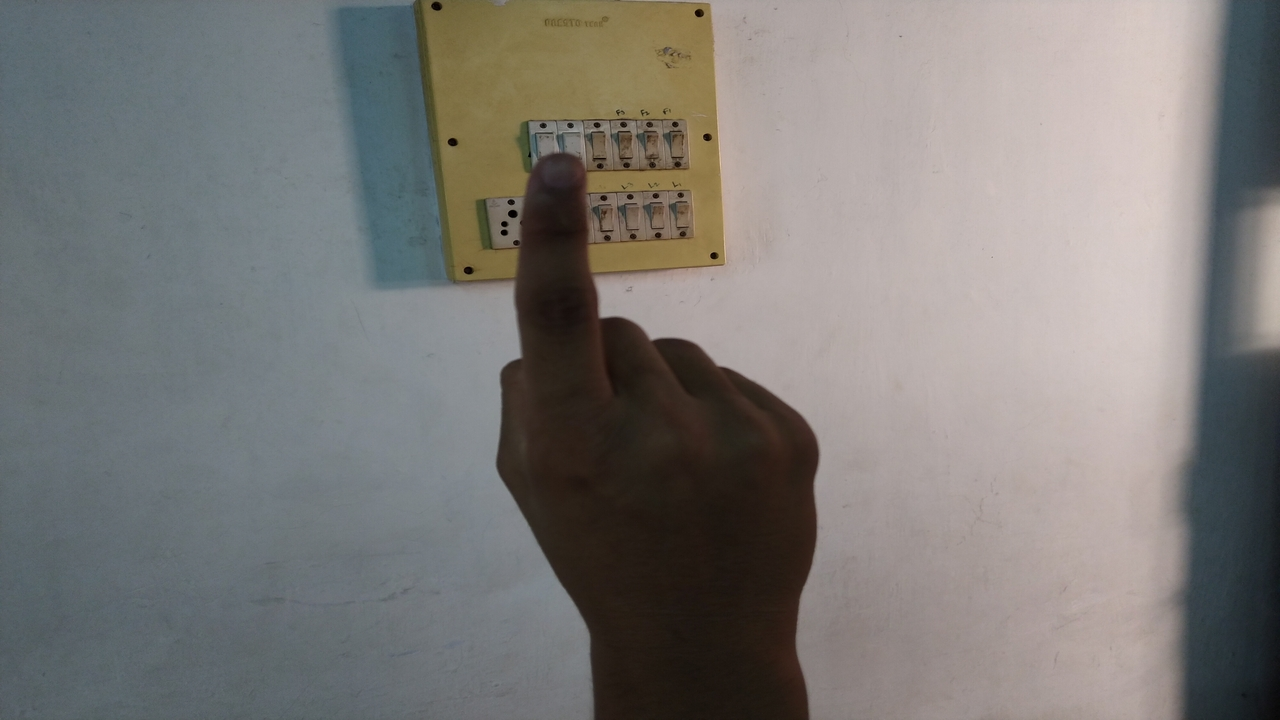fingertip: (526, 150, 584, 212)
